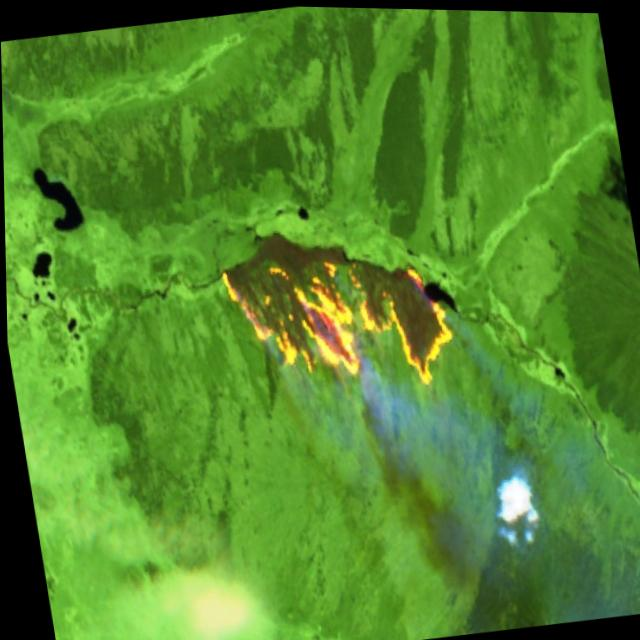fire: (212, 231, 462, 416)
